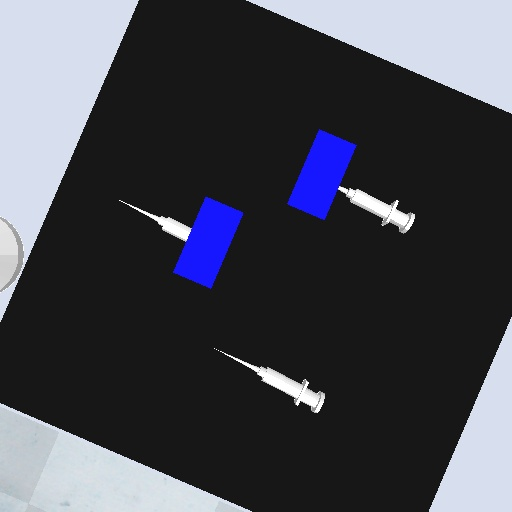jeringuilla: (210, 342, 328, 416), (337, 183, 418, 236), (116, 196, 194, 243)
